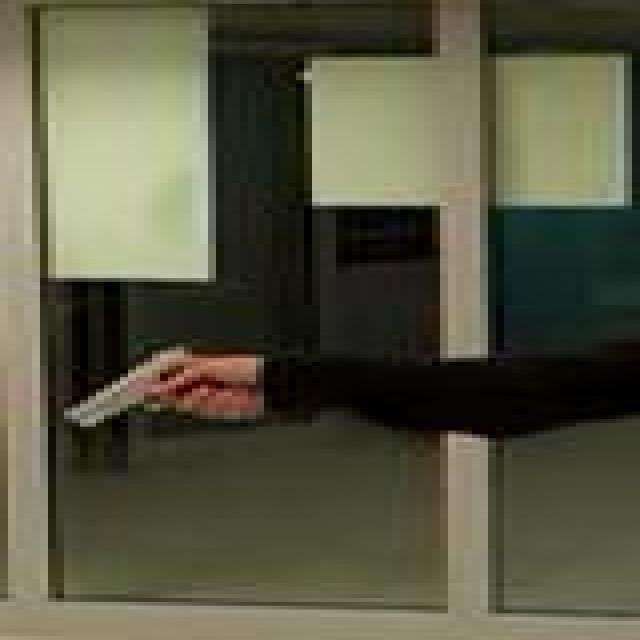Guns: (7, 332, 288, 454)
